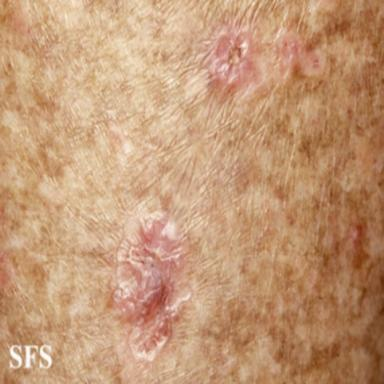Porokeratosis: (113, 210, 191, 361), (204, 25, 325, 94)
